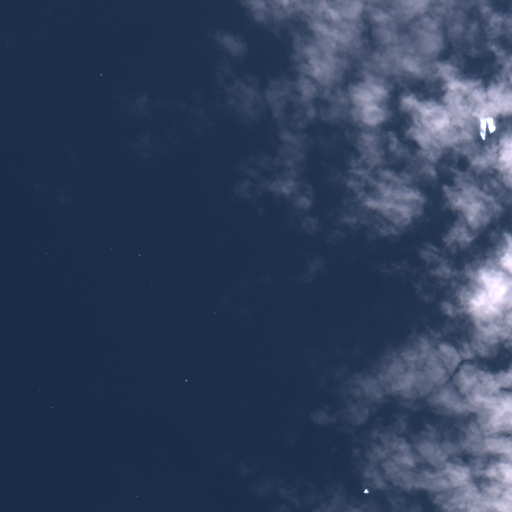Iceberg: (480, 117, 495, 139), (363, 489, 368, 493), (100, 73, 102, 75), (185, 379, 187, 381), (136, 495, 138, 497), (138, 254, 140, 255), (51, 407, 52, 408)
